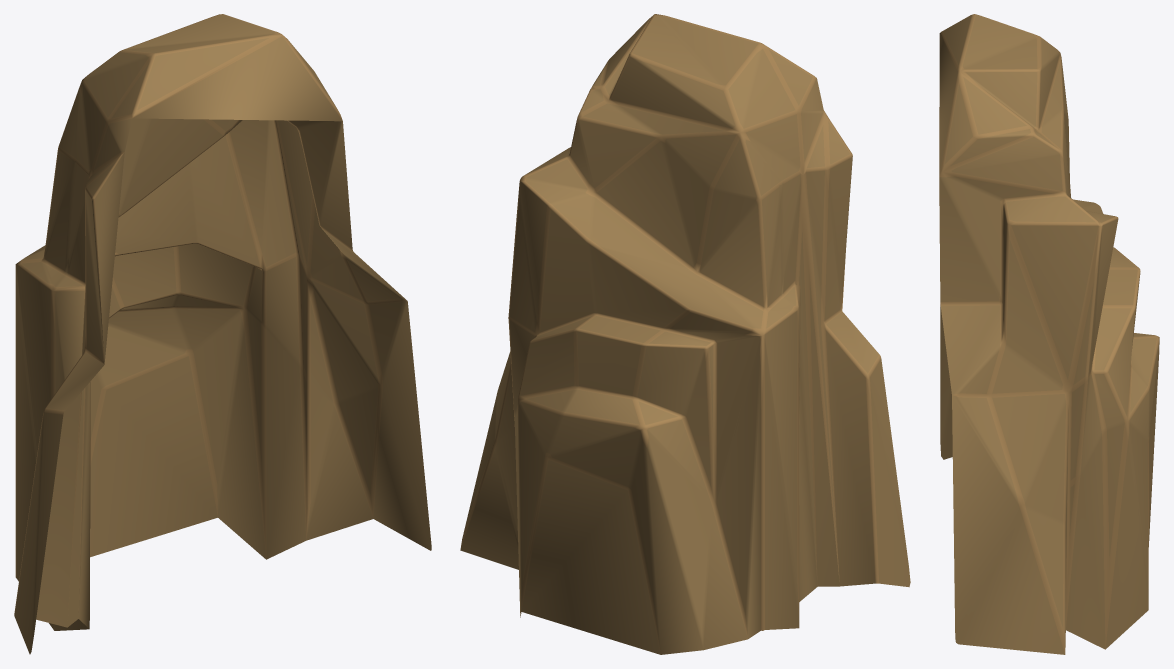
The model's file is Risco 3.fbx.
3 views of the same model, side by side, from view 1: azimuth 30°, elevation 25°; view 2: azimuth 150°, elevation 25°; view 3: azimuth 270°, elevation 25° (orthographic). The views are drawn at different scales.
Visible parts, largest first — view 1: Risco 3; view 2: Risco 3; view 3: Risco 3.
Boxes of the visible parts, bbox=[...] form: Risco 3: bbox=[14, 14, 431, 654]; Risco 3: bbox=[460, 14, 910, 654]; Risco 3: bbox=[939, 14, 1159, 654].
Bounding box in the file's own units: 776 × 1091 × 394.
